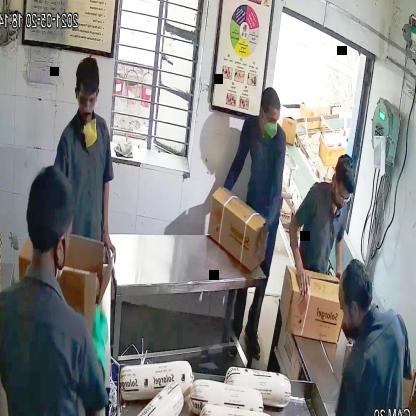goggles: (76, 92, 100, 113), (334, 187, 357, 204)
no_goggles: (264, 109, 282, 125)
